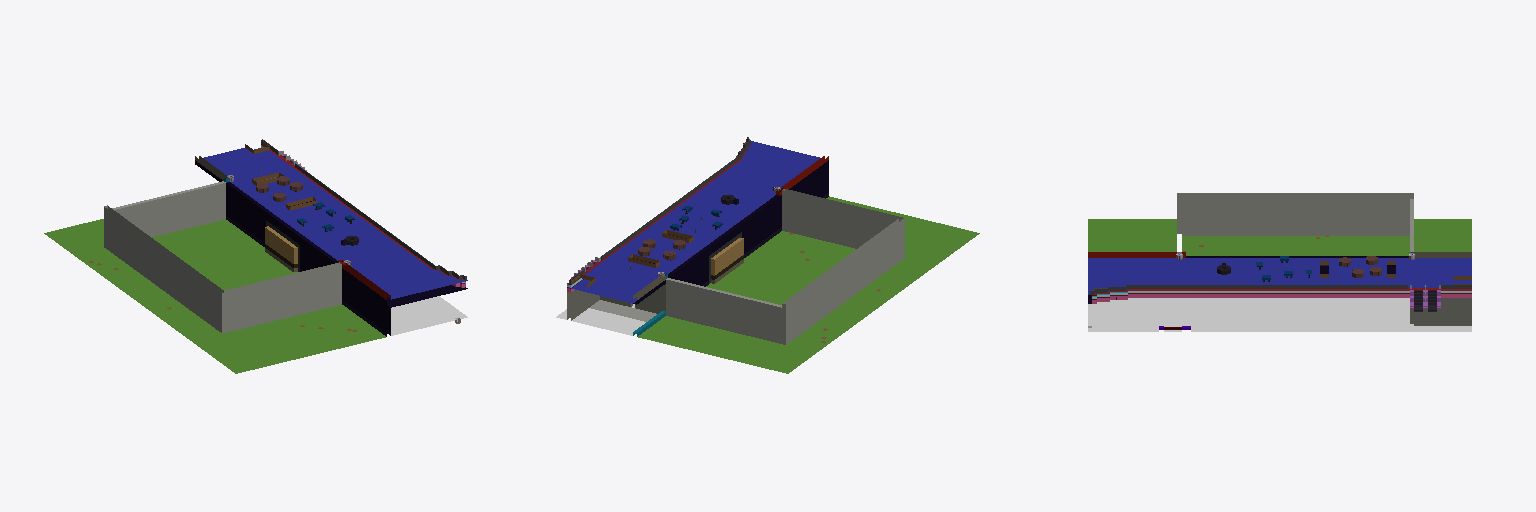
3 views of the same model, side by side, from view 1: azimuth 30°, elevation 25°; view 2: azimuth 150°, elevation 25°; view 3: azimuth 270°, elevation 25° (orthographic).
Size of the model in its own units: 60 by 11.5 by 86.
Materials: 33 (3 with a texture image).